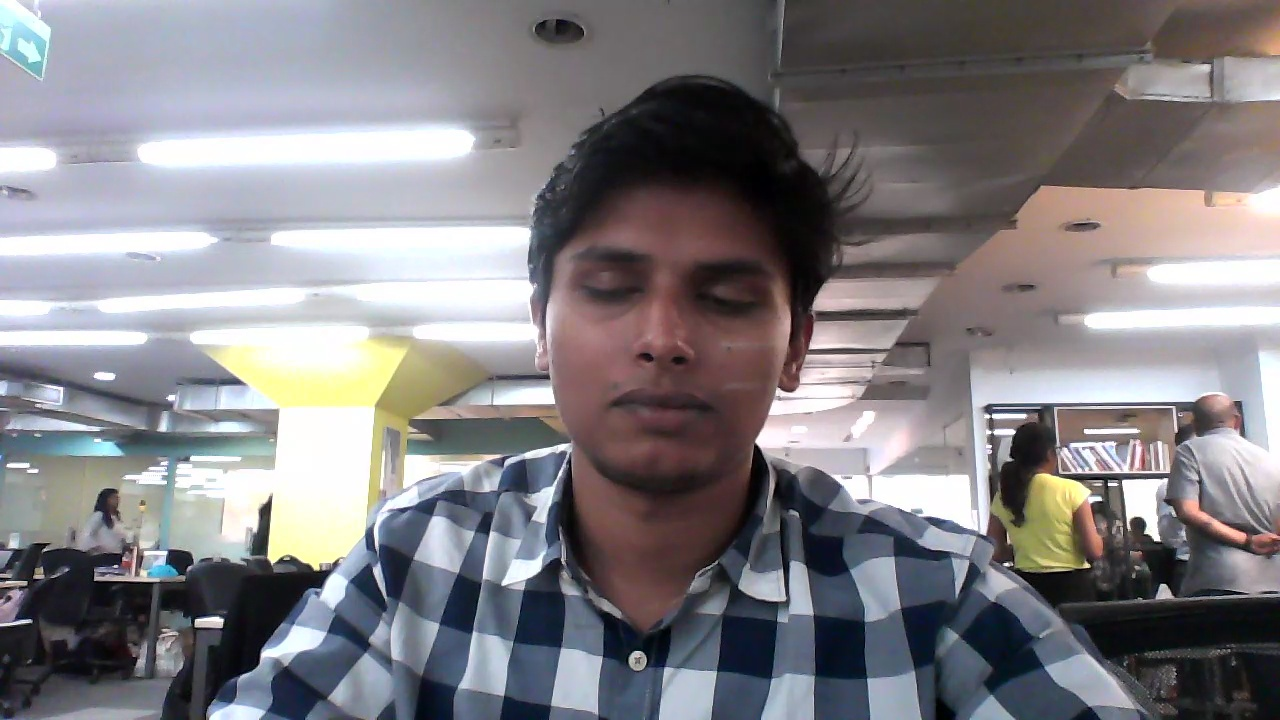closed: (521, 71, 820, 503)
